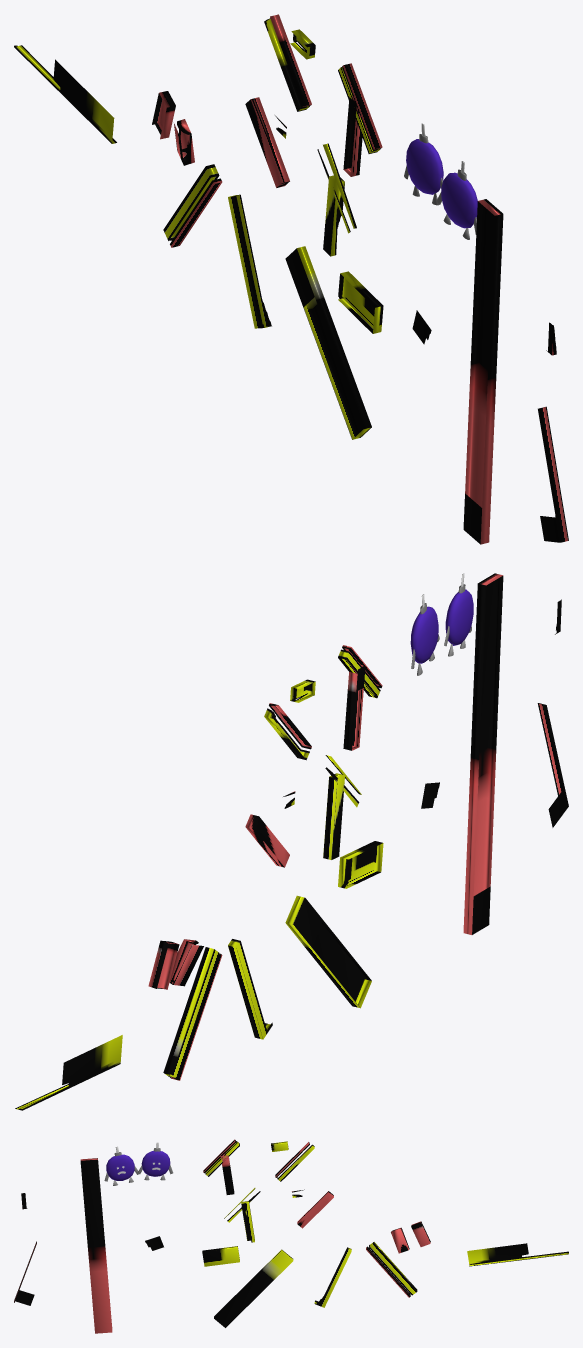
Rendered from Title.obj.
The picture shows the model from 3 angles, top to bottom: view 1: azimuth 30°, elevation 25°; view 2: azimuth 150°, elevation 25°; view 3: azimuth 270°, elevation 25°; orthographic projection. The views are drawn at different scales.
Parts seen in each view (by area): view 1: Cube.031, Cube.008, Cube.013; view 2: Cube.031, Cube.008, Cube.013; view 3: Cube.031, Cube.013, Cube.008.
Boxes of the visible parts, <box> form: Cube.031: <box>14,14,568,544</box>; Cube.008: <box>404,123,443,205</box>; Cube.013: <box>436,161,477,239</box>; Cube.031: <box>15,573,568,1110</box>; Cube.008: <box>410,594,439,675</box>; Cube.013: <box>444,573,473,656</box>; Cube.031: <box>14,1139,568,1333</box>; Cube.013: <box>104,1146,138,1185</box>; Cube.008: <box>137,1142,173,1180</box>.
Bounding box in the file's own units: 2.78 × 42.3 × 111.
